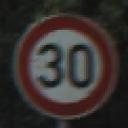speed_limit_30: (11, 14, 122, 122)
